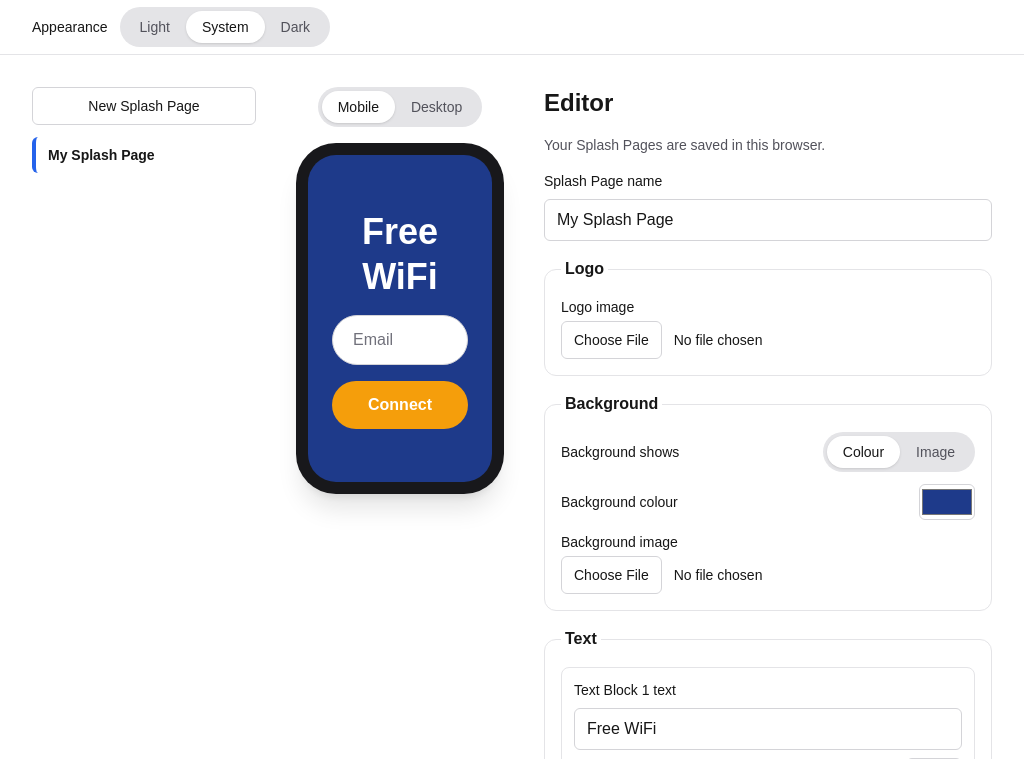
Test case: Captivator: Reset to starter › confirming Reset by keyboard returns the Preview to the Starter Splash Page and keeps the Device
This screenshot has width=1024, height=759.
Replace the text in the field labelled "Text Block 1 text" with "Welcome to the Café" at (768, 729), box [574, 708, 962, 750]
(page scrolled)
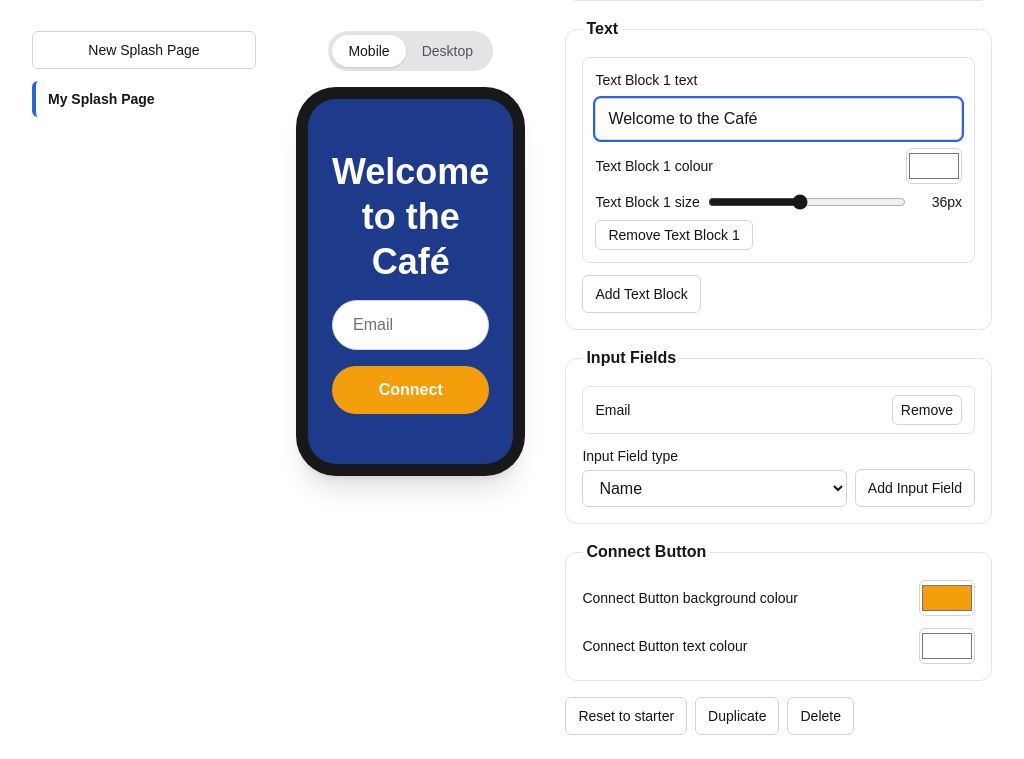
Click the button "Add Input Field" at (915, 488), box [855, 469, 975, 507]
(page scrolled)
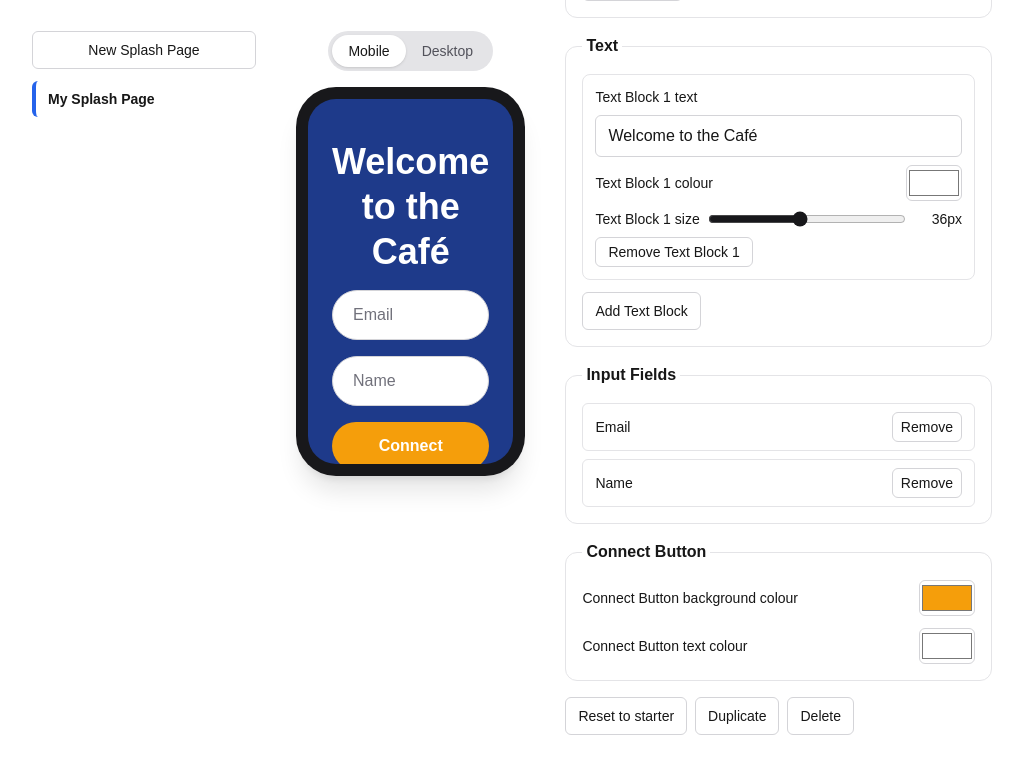
Click the radio button labelled "Desktop" at (447, 51), box [406, 35, 489, 67]
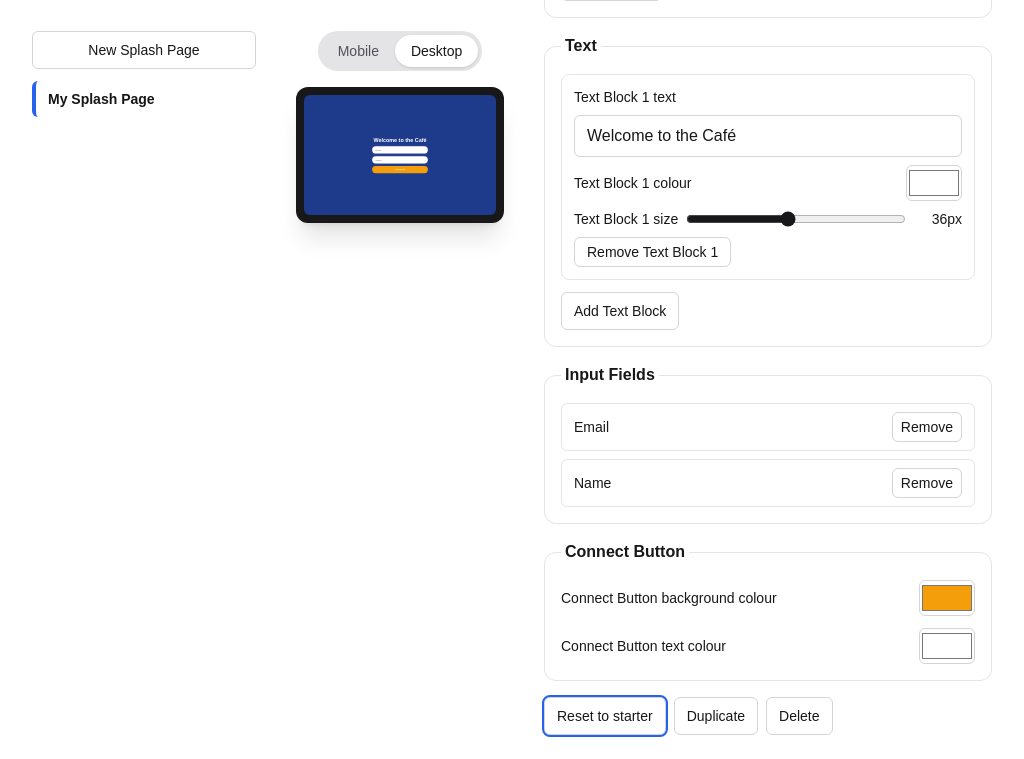
Press Enter
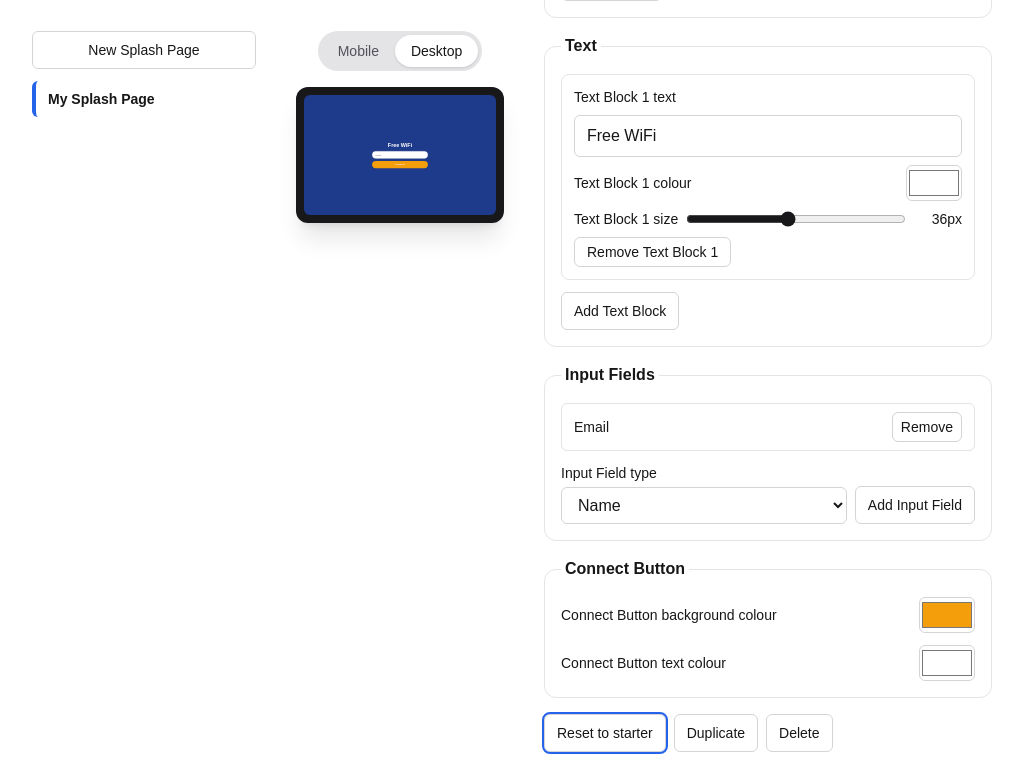
Result: the radio button labelled "Desktop" is checked at [395, 35, 478, 67]
Result: the text "Free WiFi" is shown at [388, 142, 412, 149]
Result: the text "Welcome to the Café" is gone
